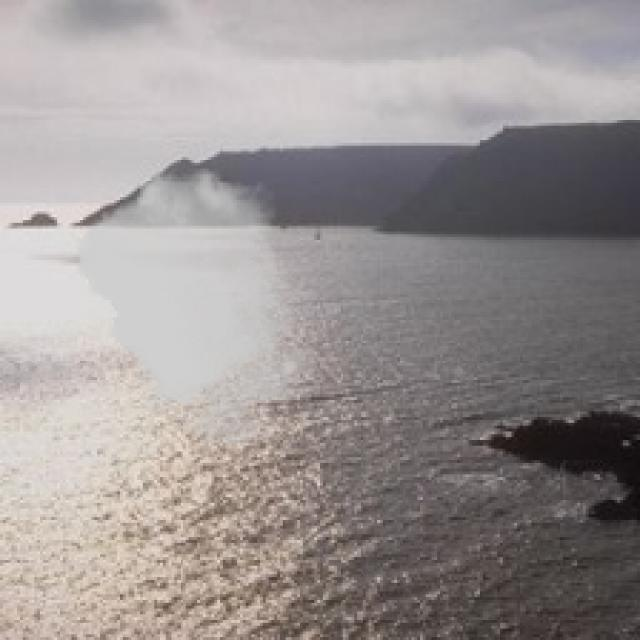smoke: (77, 168, 317, 446)
